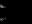person: (1, 3, 6, 11), (1, 19, 6, 23), (14, 19, 18, 23)
